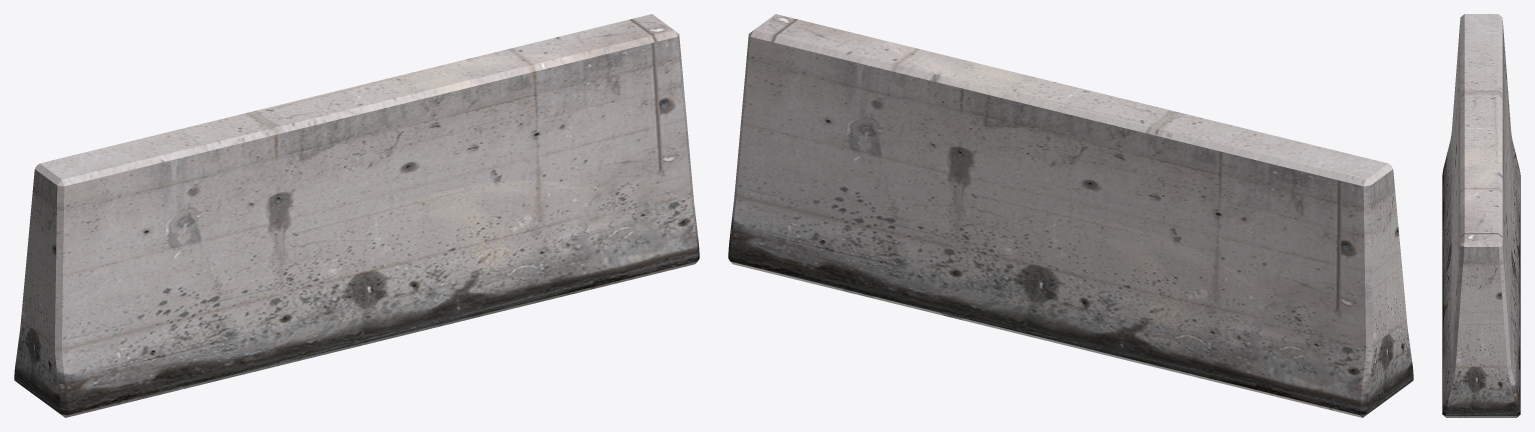
Rendered from DT_Conc_barrier_01.fbx.
3 views of the same model, side by side, from view 1: azimuth 30°, elevation 25°; view 2: azimuth 150°, elevation 25°; view 3: azimuth 270°, elevation 25° (orthographic). The views are drawn at different scales.
Parts seen in each view (by area): view 1: DT_Conc_barrier_01; view 2: DT_Conc_barrier_01; view 3: DT_Conc_barrier_01.
Boxes of the visible parts, <box> form: DT_Conc_barrier_01: <box>14,14,699,417</box>; DT_Conc_barrier_01: <box>728,14,1413,417</box>; DT_Conc_barrier_01: <box>1442,14,1520,417</box>.
Bounding box in the file's own units: 400 × 136 × 56.
